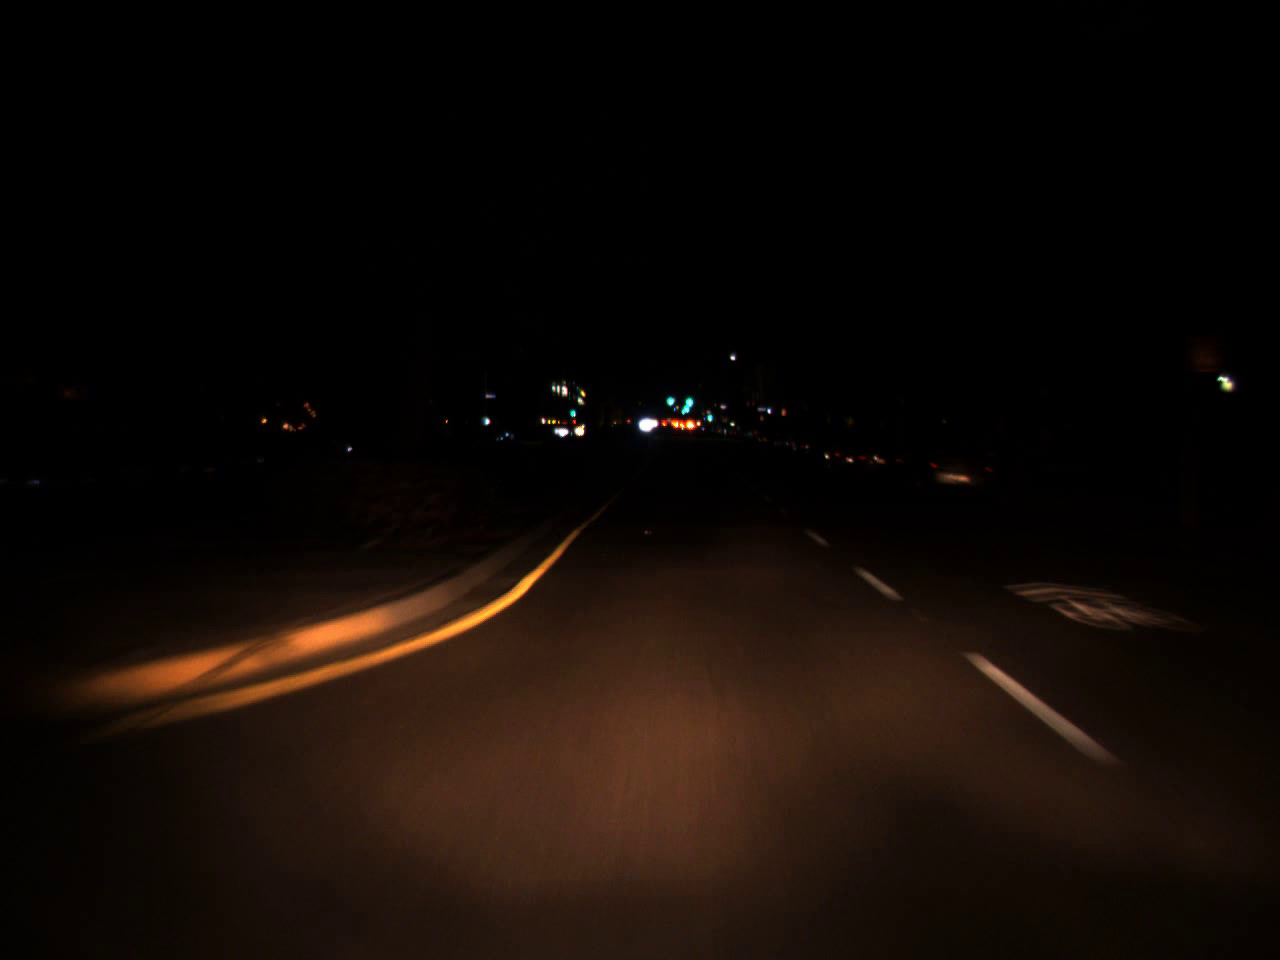go: (680, 387, 694, 411), (662, 385, 674, 406), (569, 401, 577, 419), (706, 410, 713, 422)
